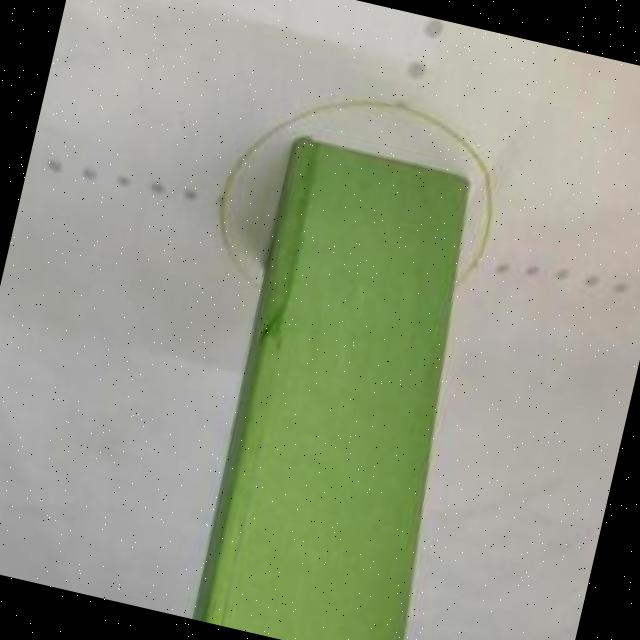greenbox: (185, 135, 514, 640)
